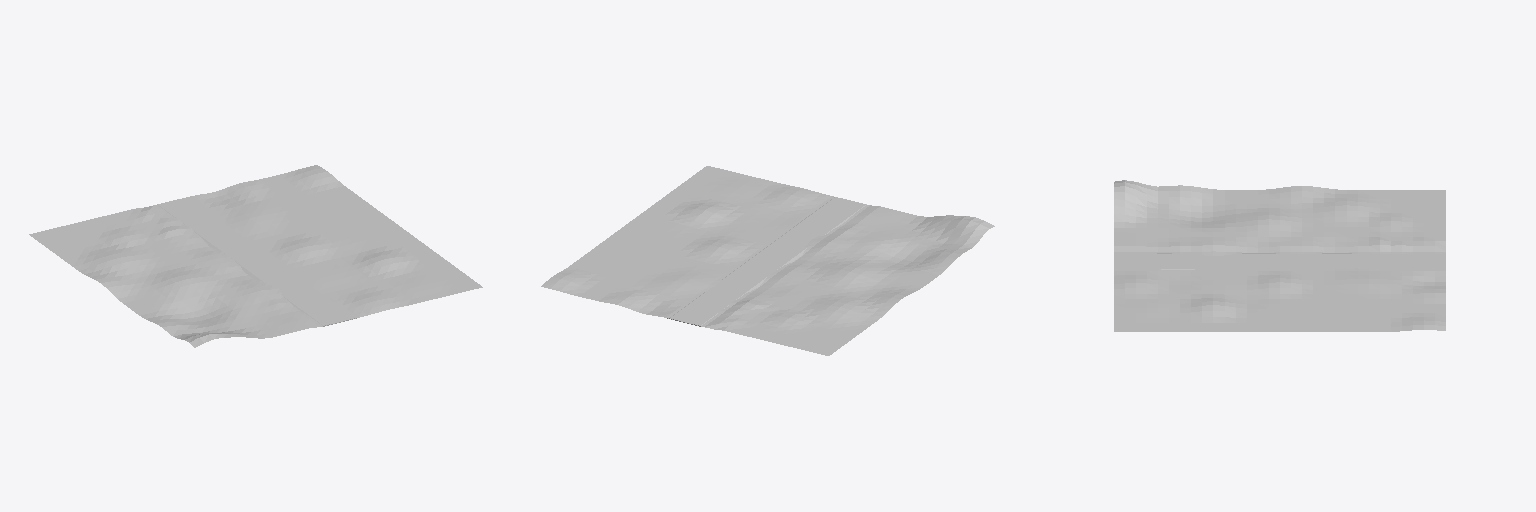
File: RoadAndGround.obj
The picture shows the model from 3 angles: view 1: azimuth 30°, elevation 25°; view 2: azimuth 150°, elevation 25°; view 3: azimuth 270°, elevation 25°; orthographic projection.
Visible parts, largest first — view 1: pPlane1, pCube1; view 2: pPlane1, pCube1; view 3: pPlane1, pCube1.
Part boxes in pixels (left/top/right/bottom): pPlane1: left=29, top=165, right=482, bottom=347; pCube1: left=157, top=197, right=356, bottom=326; pPlane1: left=541, top=166, right=994, bottom=355; pCube1: left=667, top=197, right=866, bottom=326; pPlane1: left=1114, top=180, right=1445, bottom=331; pCube1: left=1114, top=253, right=1445, bottom=269.
Size of the model in its own units: 194 by 11.4 by 194.